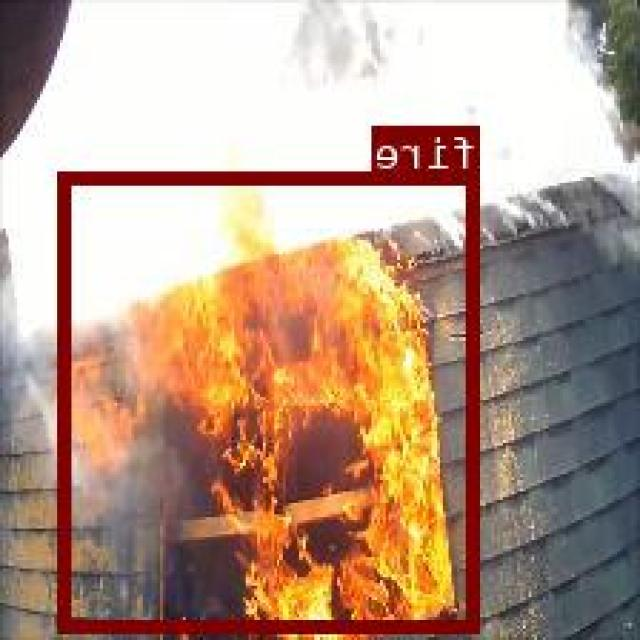fire: (62, 170, 480, 630)
